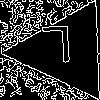L: (40, 26, 74, 73)
